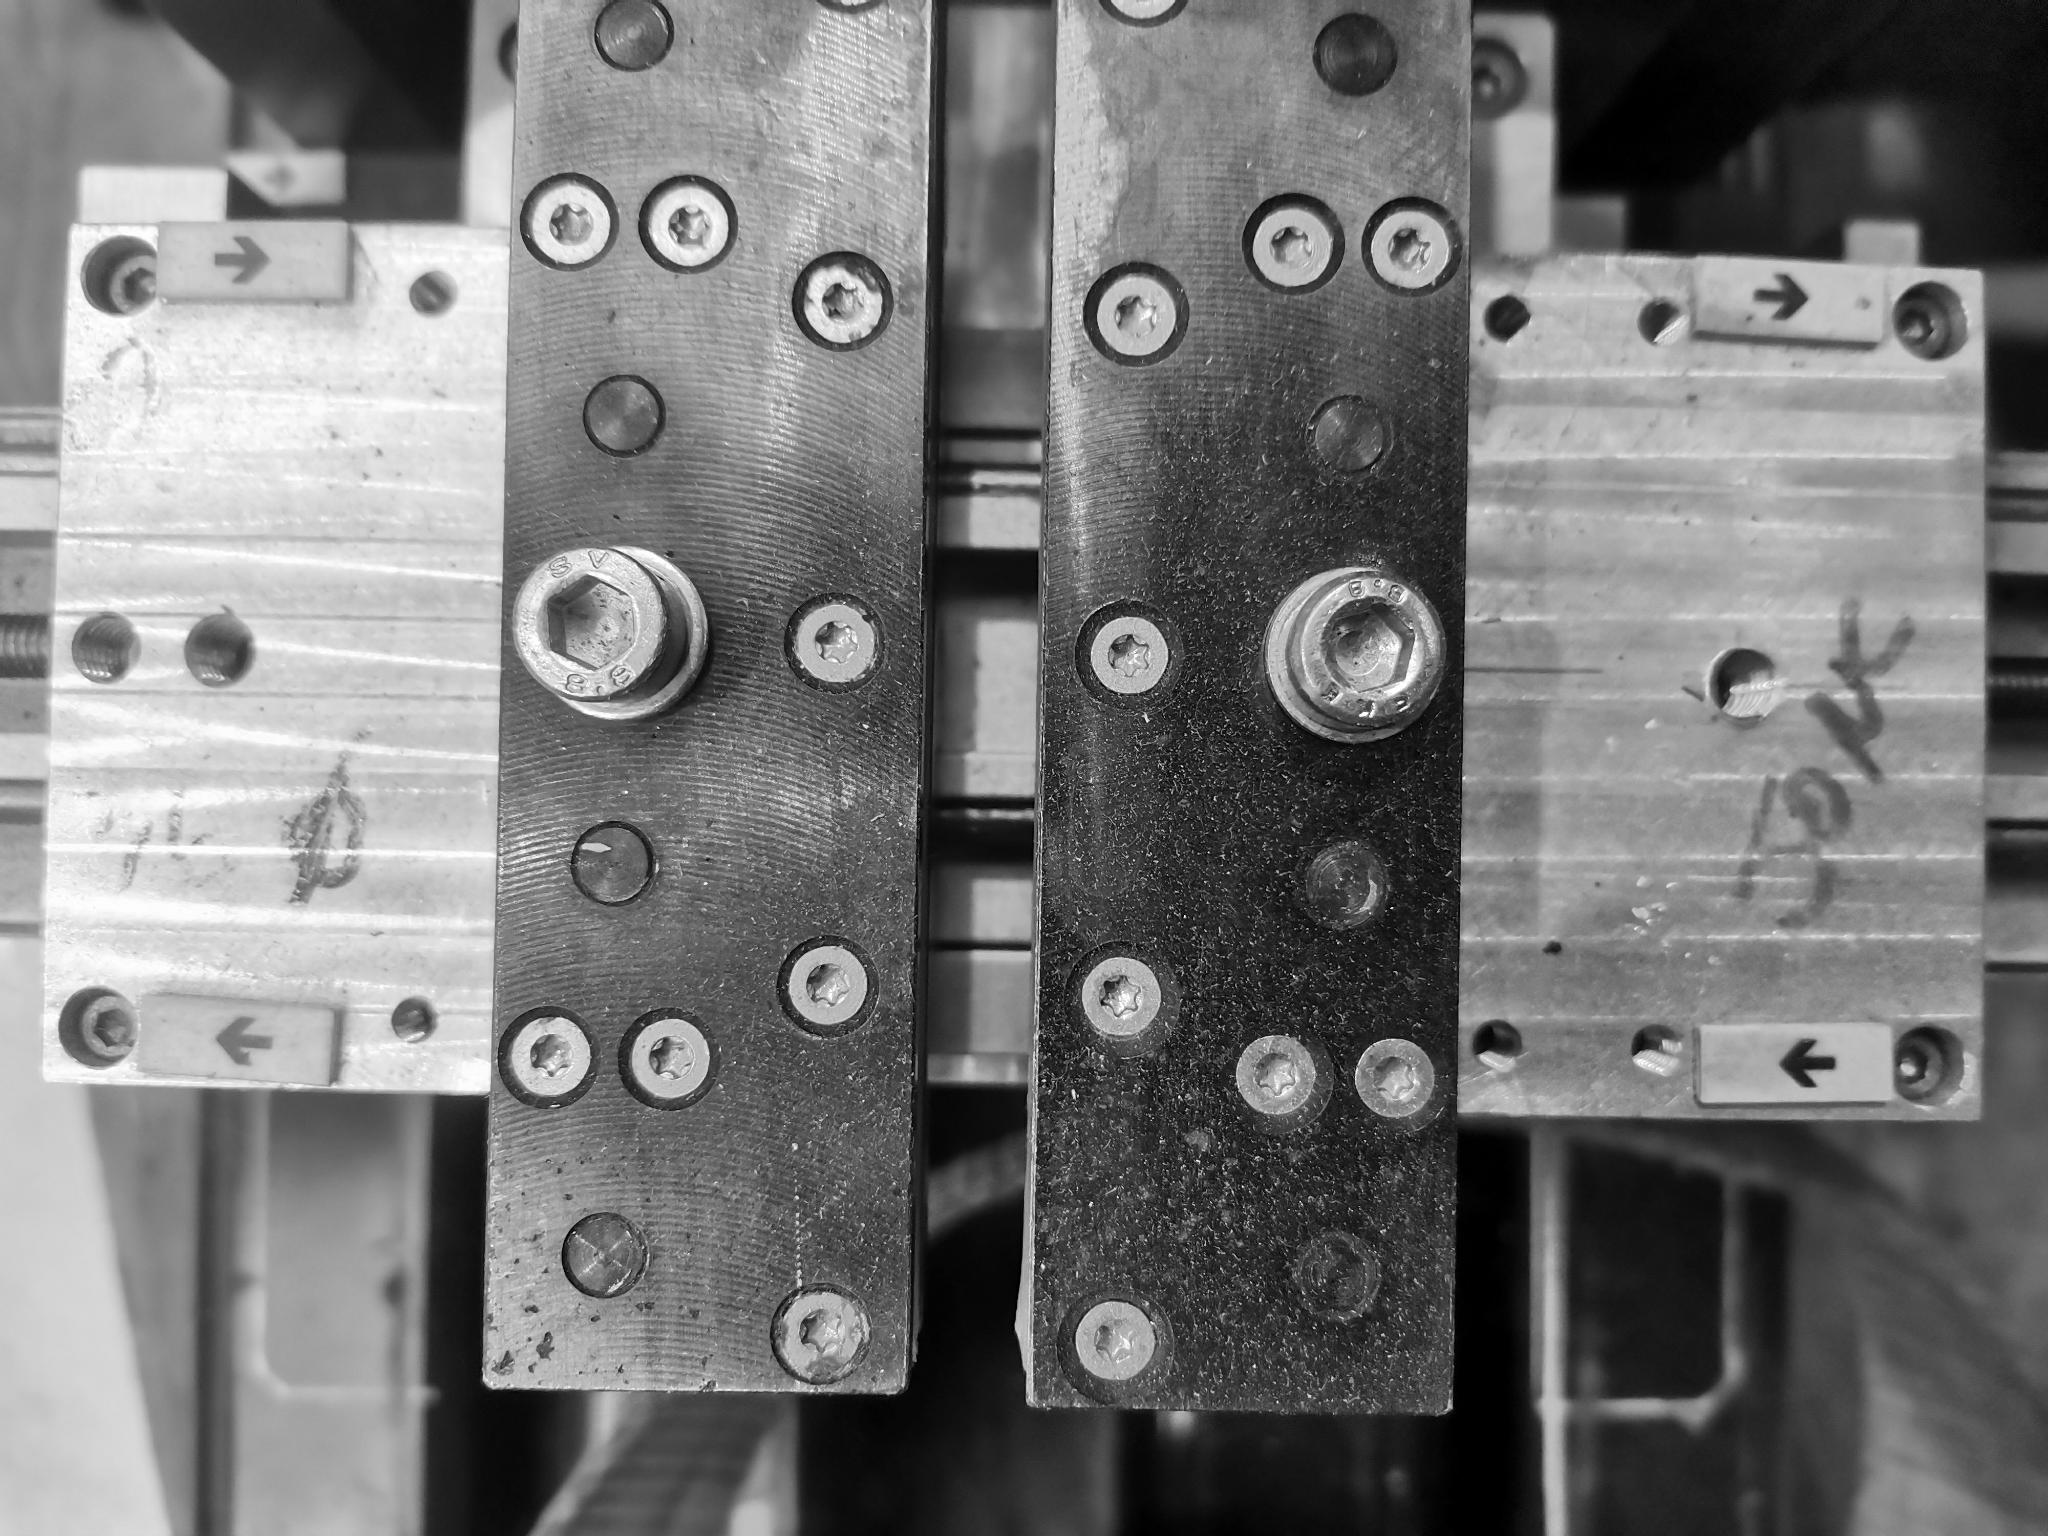screw: (505, 536, 713, 736), (1256, 557, 1453, 753), (1072, 252, 1208, 376), (1066, 587, 1192, 720), (1050, 1278, 1179, 1404), (774, 584, 893, 708), (784, 239, 903, 361), (768, 929, 887, 1050), (1237, 182, 1351, 302), (611, 1000, 726, 1120), (632, 166, 748, 281), (492, 999, 606, 1115), (1356, 181, 1467, 300), (766, 1276, 877, 1391), (513, 173, 627, 276), (1069, 941, 1177, 1046), (1230, 1025, 1324, 1120), (1350, 1033, 1442, 1121), (47, 987, 139, 1076), (77, 231, 166, 321), (1888, 1018, 1972, 1113)
